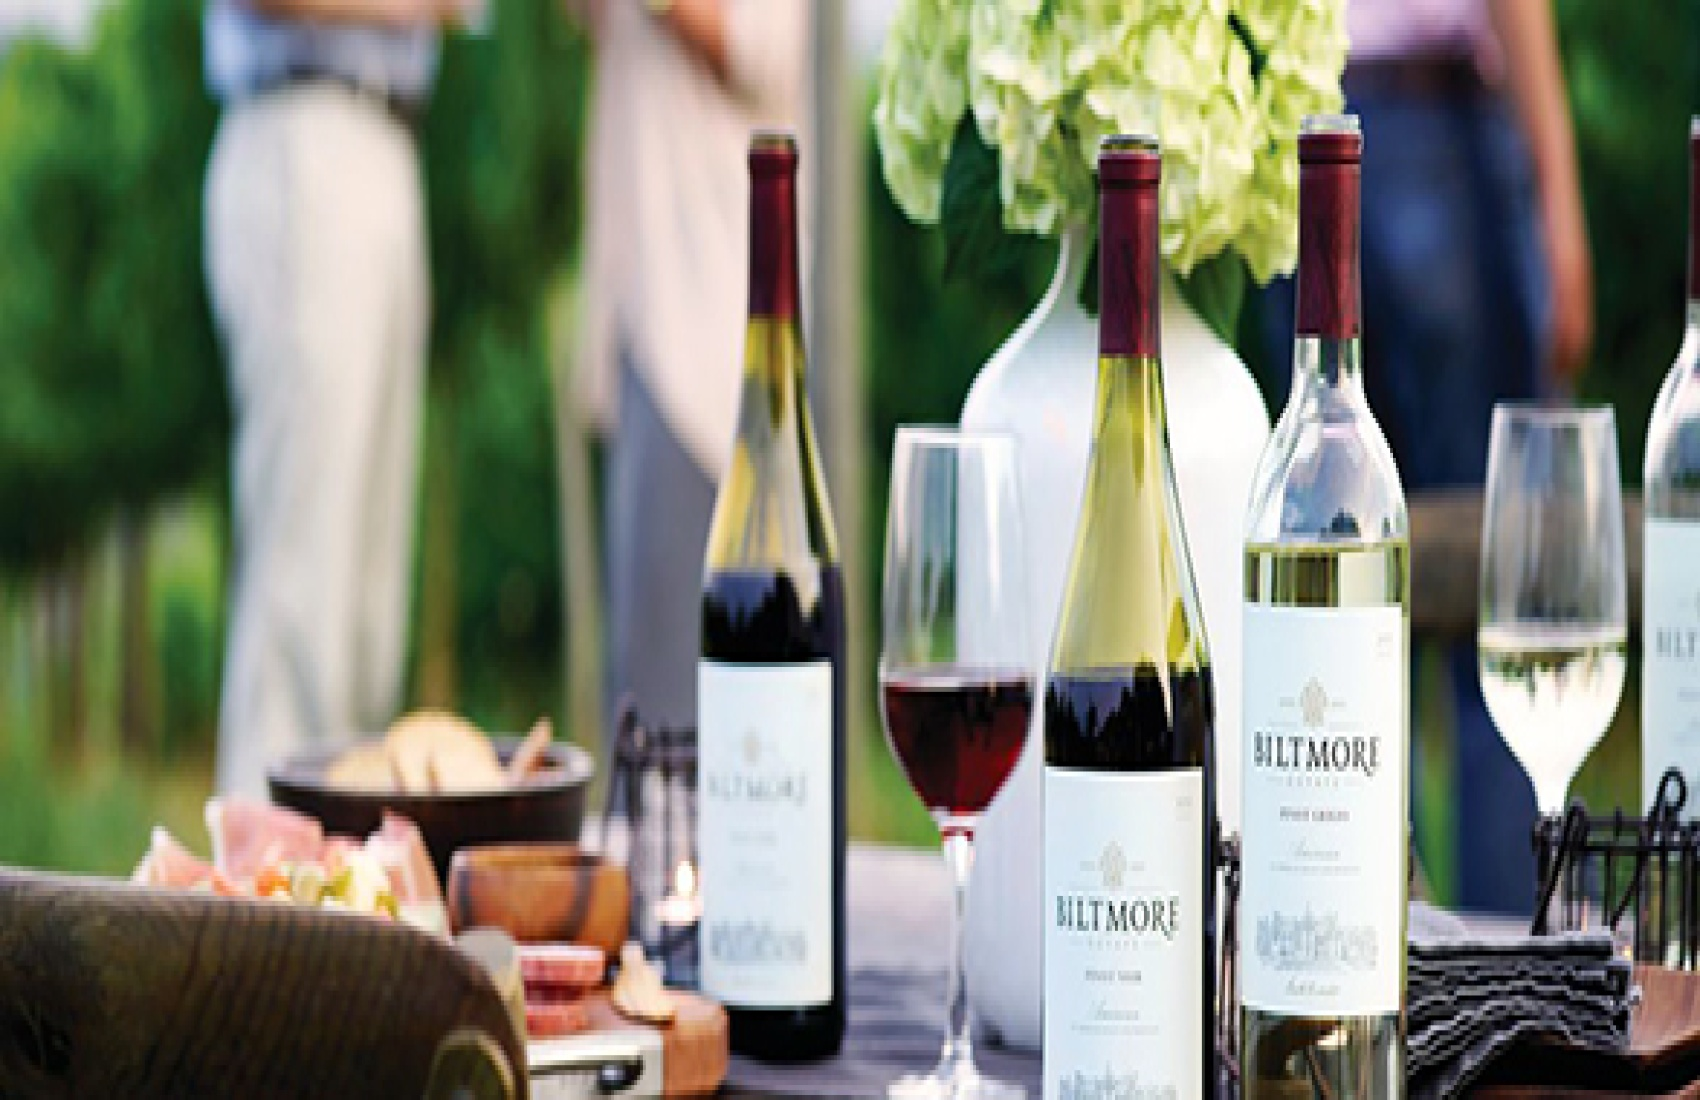wine: (1045, 144, 1228, 1100), (1220, 135, 1404, 1091), (693, 90, 835, 1041)
